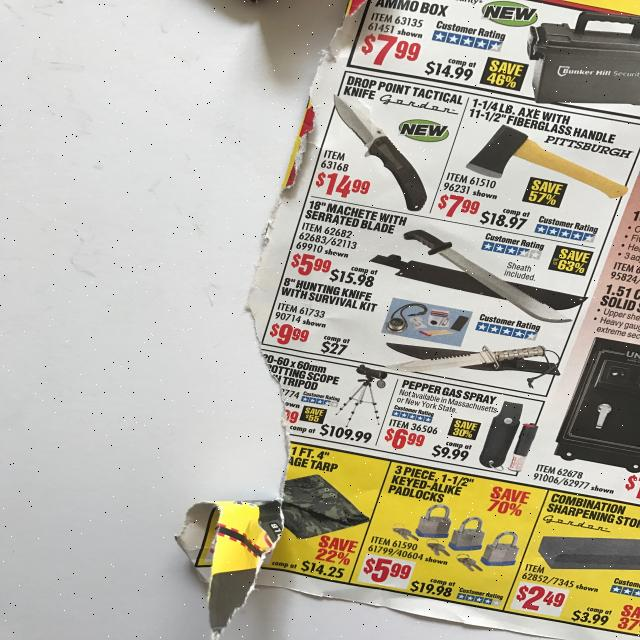paper: (170, 0, 640, 640)
